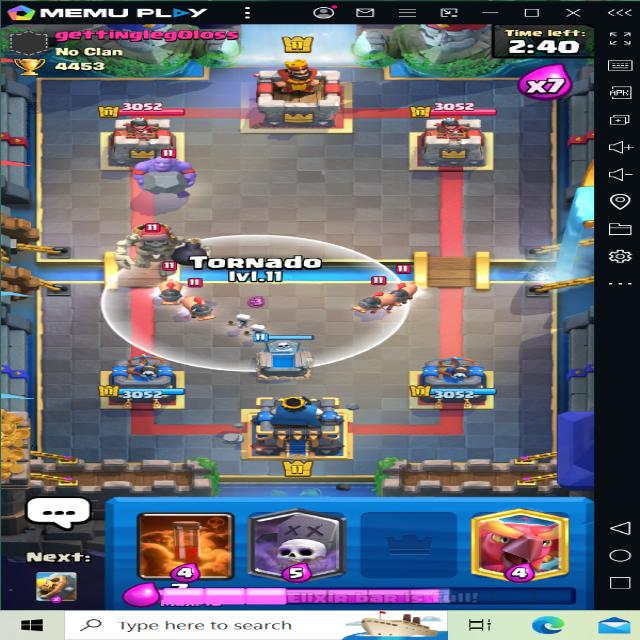Bowler: (132, 145, 202, 199)
Giantskeleton: (110, 222, 211, 272)
Royalhogs: (378, 268, 434, 303), (175, 280, 218, 319), (350, 286, 397, 316), (153, 269, 186, 309)
